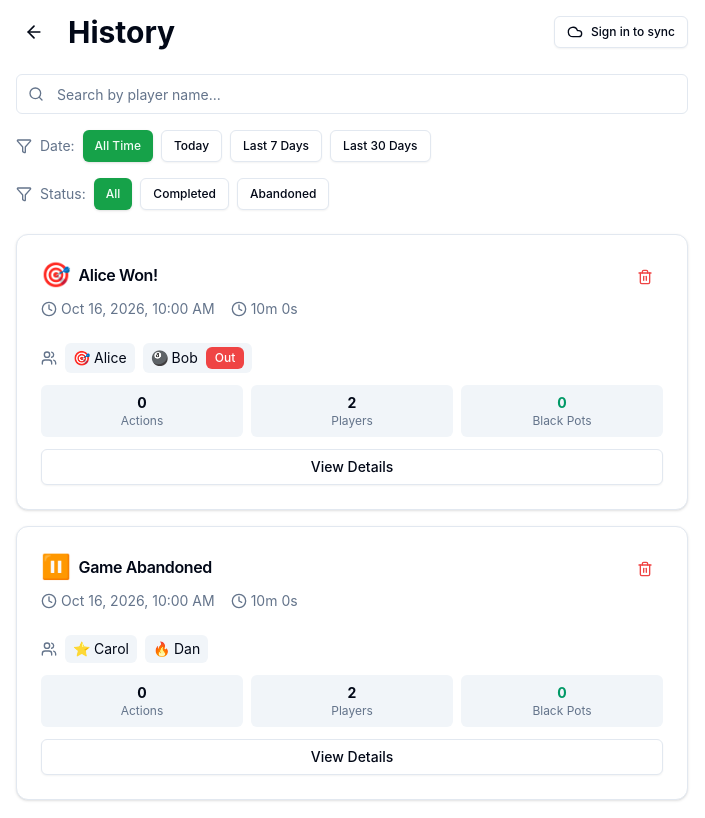
Test: HistoryPage › should show only abandoned games under the Abandoned filter
Step 1. Click the button "Abandoned" → (283, 194), box 237,178 -> 329,210
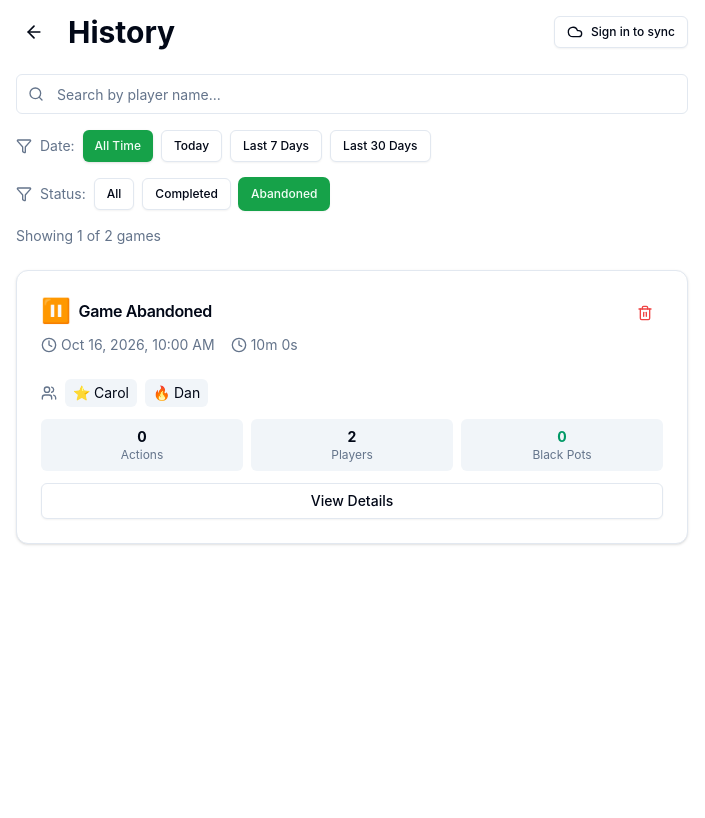
Expected: the text "Game Abandoned" is shown, 79,303 -> 212,319
Expected: the text "Alice Won!" is gone
Expected: the text "Showing 1 of 2 games" is shown, 16,227 -> 161,244
